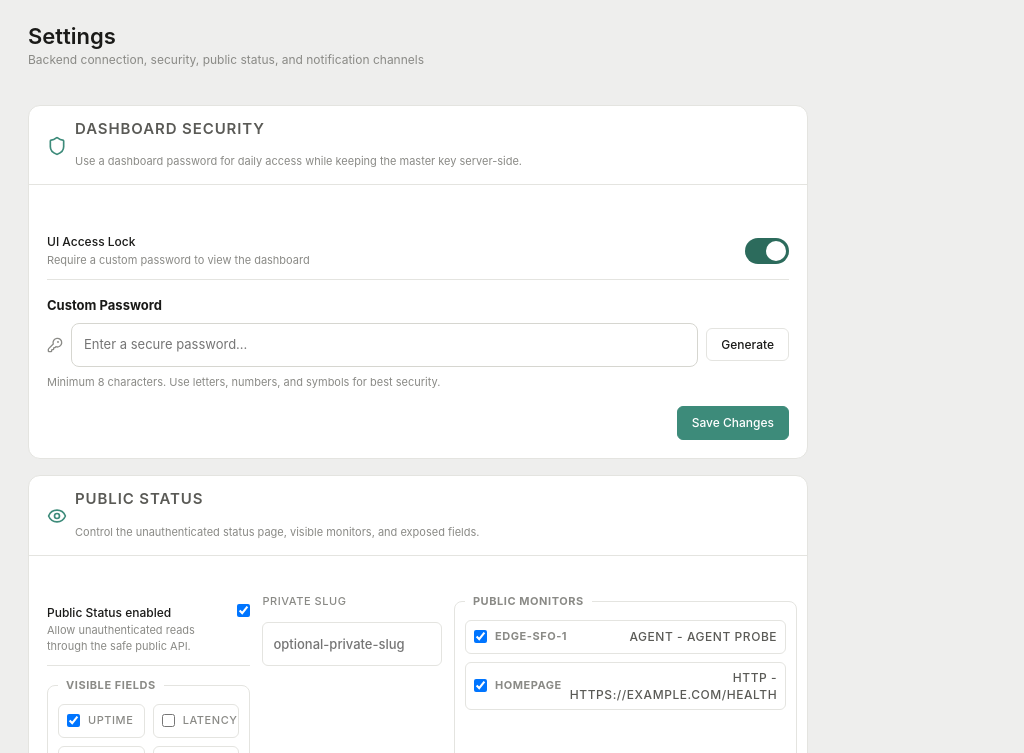
Test: Settings › validates password input before save
Type "short" into the field labelled "Custom Password" at (385, 344), box [71, 322, 698, 366]
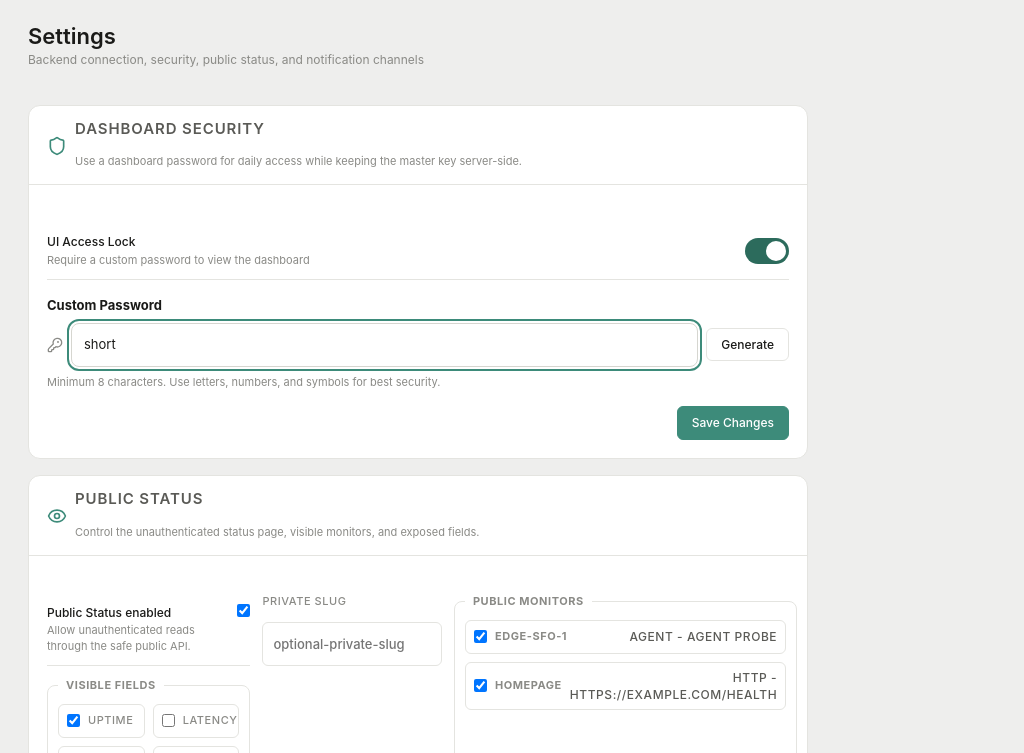
Click the button "Save Changes" at (733, 423), box [677, 406, 789, 440]
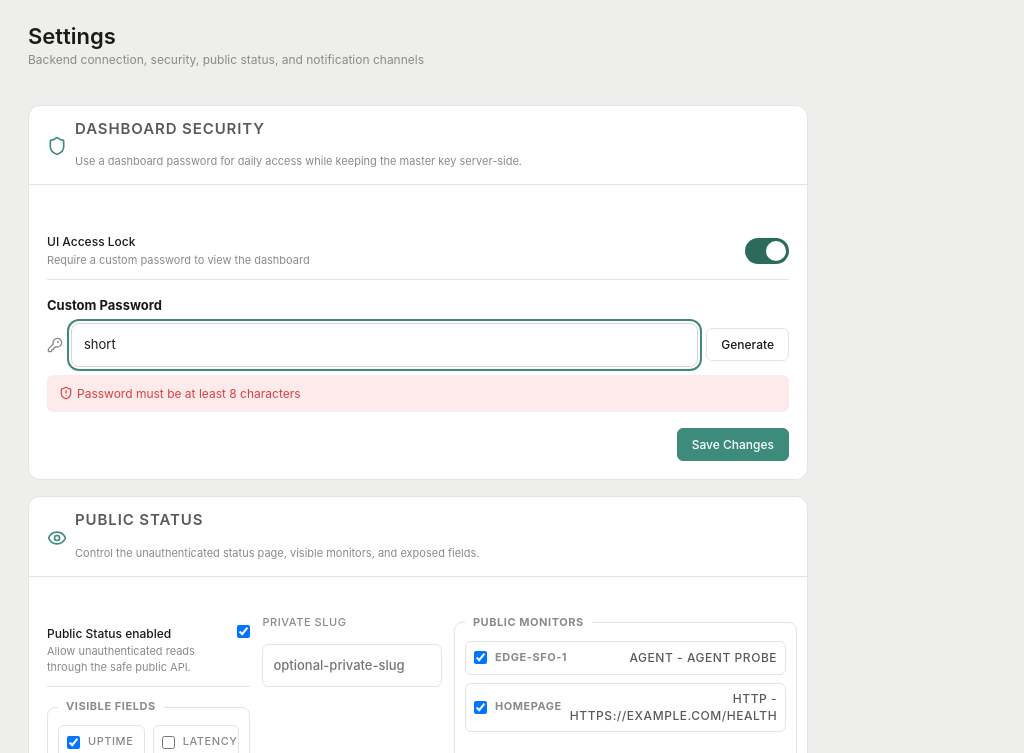
Check: the text "Password must be at least 8 characters" is shown, box [47, 374, 789, 412]
